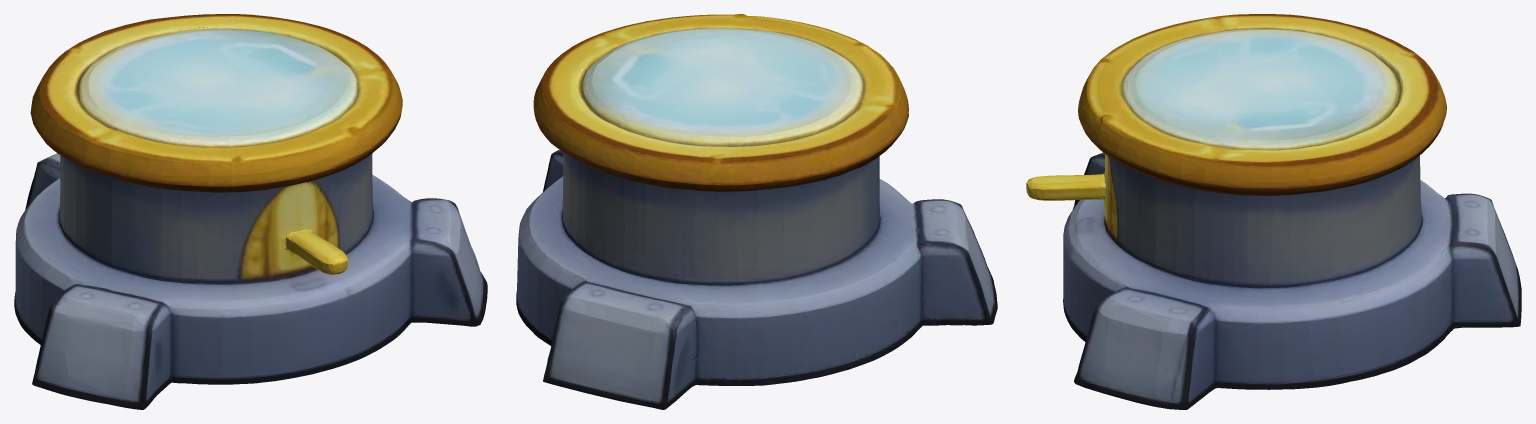
File: pedestal.glb
3 views of the same model, side by side, from view 1: azimuth 30°, elevation 25°; view 2: azimuth 150°, elevation 25°; view 3: azimuth 270°, elevation 25° (orthographic).
Visible parts, largest first — view 1: world; view 2: world; view 3: world.
Part boxes in pixels (x1,y1,x2,y2): world: [14, 14, 487, 409]; world: [516, 14, 997, 409]; world: [1026, 14, 1521, 409].
Size of the model in its own units: 0.9983 by 0.4782 by 0.9502.
Materials: 1 (1 with a texture image).
